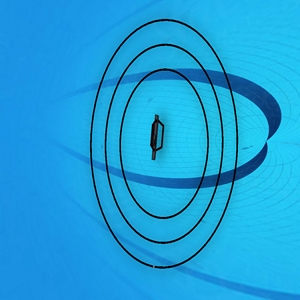circle: (87, 18, 241, 272)
submarine: (150, 115, 164, 156)
